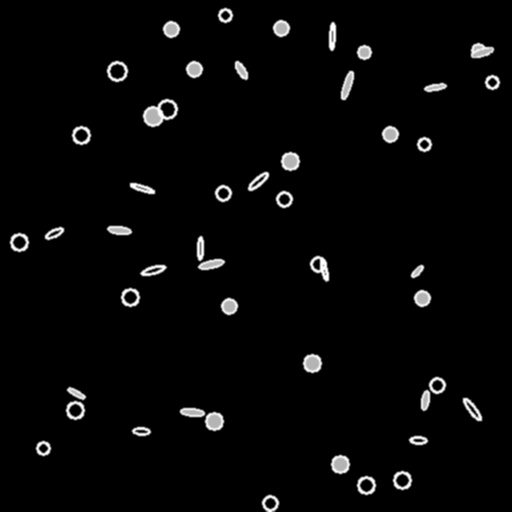pseudomonas: (246, 170, 270, 192), (462, 397, 482, 421), (339, 70, 355, 100), (470, 45, 494, 59), (233, 60, 249, 80), (198, 258, 224, 270), (140, 264, 166, 276), (130, 182, 154, 194), (45, 226, 63, 240), (319, 259, 329, 281), (67, 387, 85, 399), (420, 390, 430, 410), (410, 264, 424, 278), (107, 226, 131, 234), (180, 408, 204, 416), (424, 83, 446, 91), (329, 22, 335, 50), (197, 237, 203, 259), (132, 428, 150, 434), (410, 437, 426, 443)
synechocystis: (144, 107, 162, 125), (158, 100, 176, 118), (108, 62, 126, 80), (206, 413, 222, 429), (358, 477, 374, 493), (304, 355, 320, 371), (11, 234, 27, 250), (282, 153, 298, 169), (332, 456, 348, 472), (67, 402, 83, 418), (394, 472, 410, 488), (73, 127, 89, 143), (122, 289, 138, 305), (222, 299, 236, 313), (187, 62, 201, 76), (311, 257, 325, 271), (383, 127, 397, 141), (277, 192, 291, 206), (216, 186, 230, 200), (263, 496, 277, 510), (415, 291, 429, 305), (274, 21, 288, 35), (430, 378, 444, 392), (164, 22, 178, 36), (219, 9, 231, 21), (472, 44, 484, 56), (358, 46, 370, 58), (486, 76, 498, 88), (418, 138, 430, 150), (37, 442, 49, 454)
